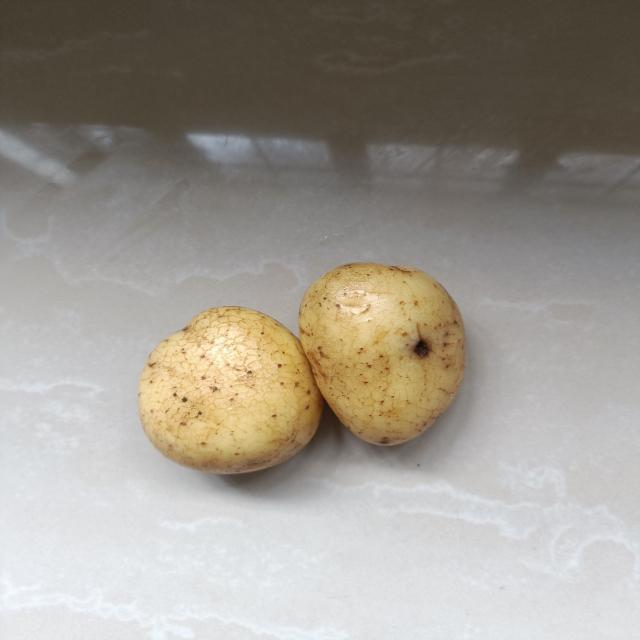potato: (300, 254, 471, 453), (136, 303, 324, 478)
